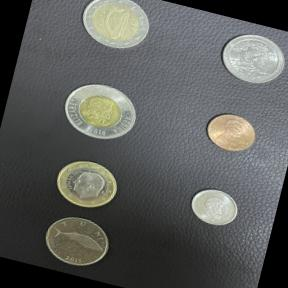1 Euro-B: (46, 152, 126, 216)
2 Euro-B: (72, 0, 159, 60)
Canada-10cent-B: (182, 180, 244, 234)
Canada-2Dollar-B: (51, 71, 146, 154)
Croatia-2Kune-B: (35, 206, 120, 278)
US-1cent-B: (197, 104, 263, 160)
US-25cent-B: (212, 25, 288, 93)
